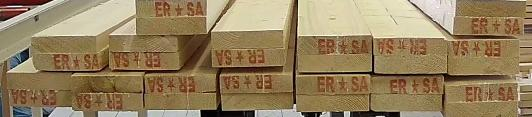Wood-Plank: (443, 83, 518, 105), (298, 51, 372, 72), (374, 36, 448, 56), (374, 54, 448, 74), (297, 74, 371, 94), (145, 72, 218, 92), (372, 74, 445, 94), (31, 52, 102, 72), (448, 56, 521, 75), (221, 74, 293, 93), (453, 17, 525, 36), (298, 36, 372, 54), (448, 40, 518, 59), (371, 94, 444, 112), (297, 94, 370, 112), (211, 30, 283, 48), (212, 50, 288, 67), (73, 94, 144, 112), (146, 93, 217, 111), (72, 74, 141, 92), (221, 93, 294, 110), (136, 0, 208, 17), (445, 101, 518, 117), (109, 35, 176, 52), (136, 18, 207, 34), (457, 0, 526, 16), (109, 53, 178, 69), (6, 72, 70, 89), (30, 37, 96, 53), (8, 90, 71, 106)
